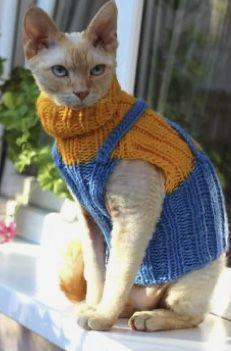kedo: (25, 1, 225, 328)
